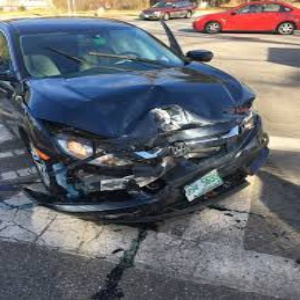bonnet: (46, 71, 251, 124)
bumper: (28, 143, 173, 224)
